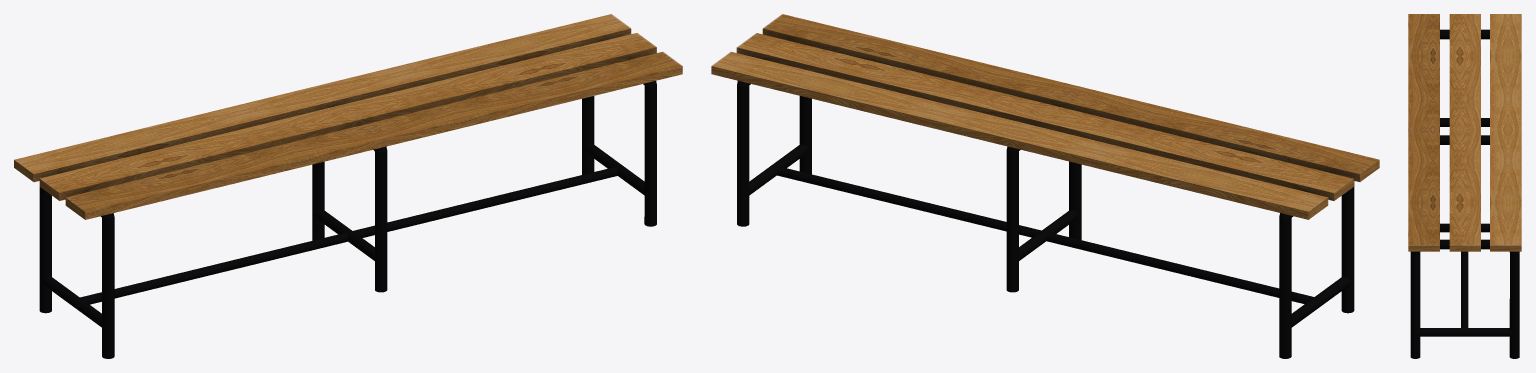
The model's file is laweczka.fbx.
3 renders of one model, left to right at view 1: azimuth 30°, elevation 25°; view 2: azimuth 150°, elevation 25°; view 3: azimuth 270°, elevation 25°, orthographic. The views are drawn at different scales.
Parts seen in each view (by area): view 1: lawka.016; view 2: lawka.016; view 3: lawka.016.
Boxes of the visible parts, x1,y1,x2,y2 form: lawka.016: (14, 14, 682, 358); lawka.016: (711, 14, 1379, 358); lawka.016: (1408, 14, 1521, 358).
Size of the model in its own units: 221 by 54.41 by 45.55.
